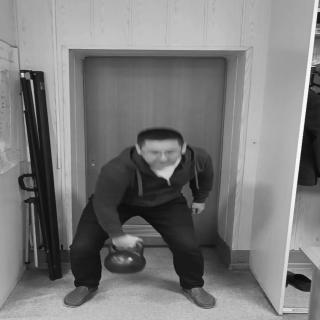kettlebell: (107, 243, 147, 276)
